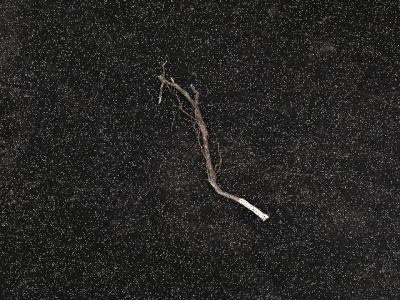Root: (158, 61, 268, 220)
